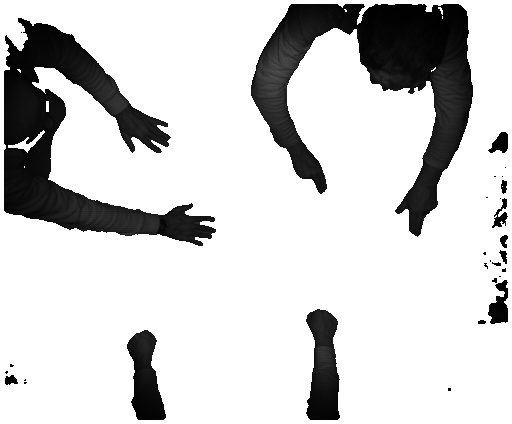fist: (304, 304, 343, 346), (120, 328, 159, 366)
hand: (117, 109, 175, 159), (392, 181, 441, 239), (164, 203, 215, 247), (293, 150, 327, 199)
